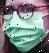with_mask: (1, 1, 49, 53)
